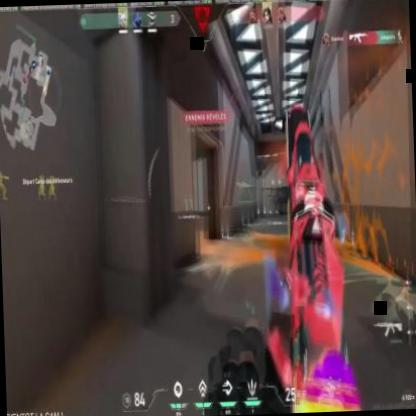enemy: (36, 174, 47, 202), (0, 168, 9, 200), (47, 174, 56, 202)
enemy_head: (40, 175, 44, 180), (50, 176, 54, 181), (0, 170, 2, 175)
